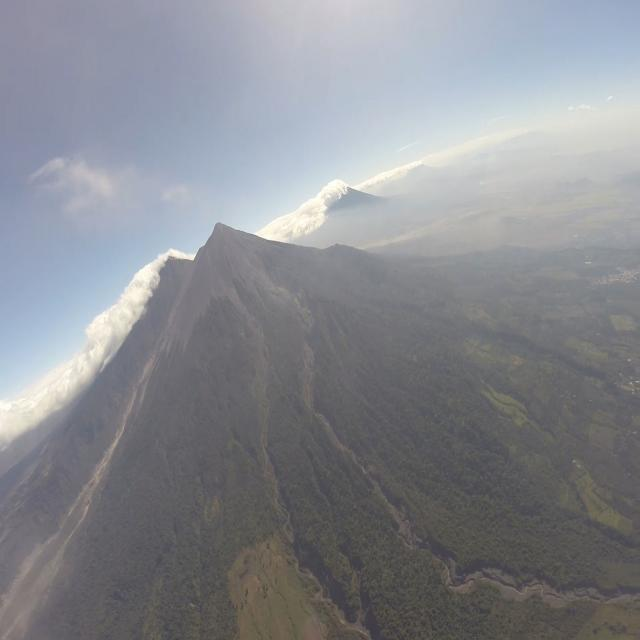Summit: (206, 218, 239, 247)
